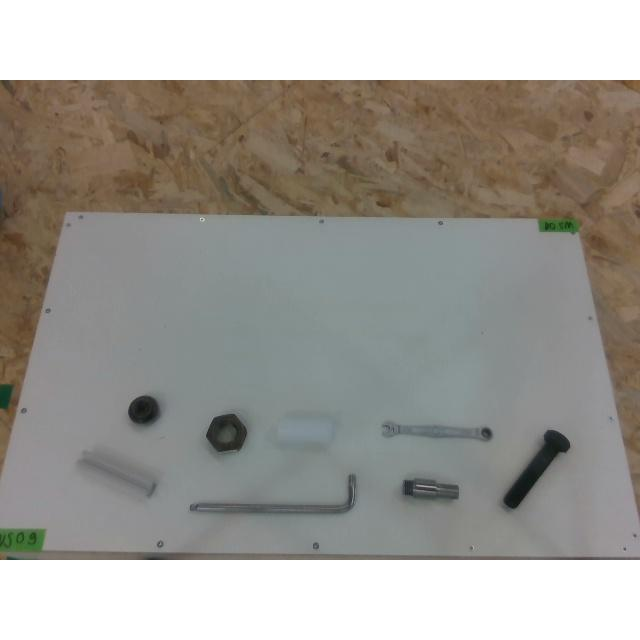AllenKey: (190, 474, 354, 514)
Axis2: (402, 478, 458, 498)
Bearing2: (128, 396, 160, 424)
F20_20_G: (78, 448, 162, 496)
M20_100: (503, 430, 569, 510)
M30: (206, 414, 246, 452)
Spacer: (277, 416, 335, 444)
Wrench: (382, 421, 492, 441)
